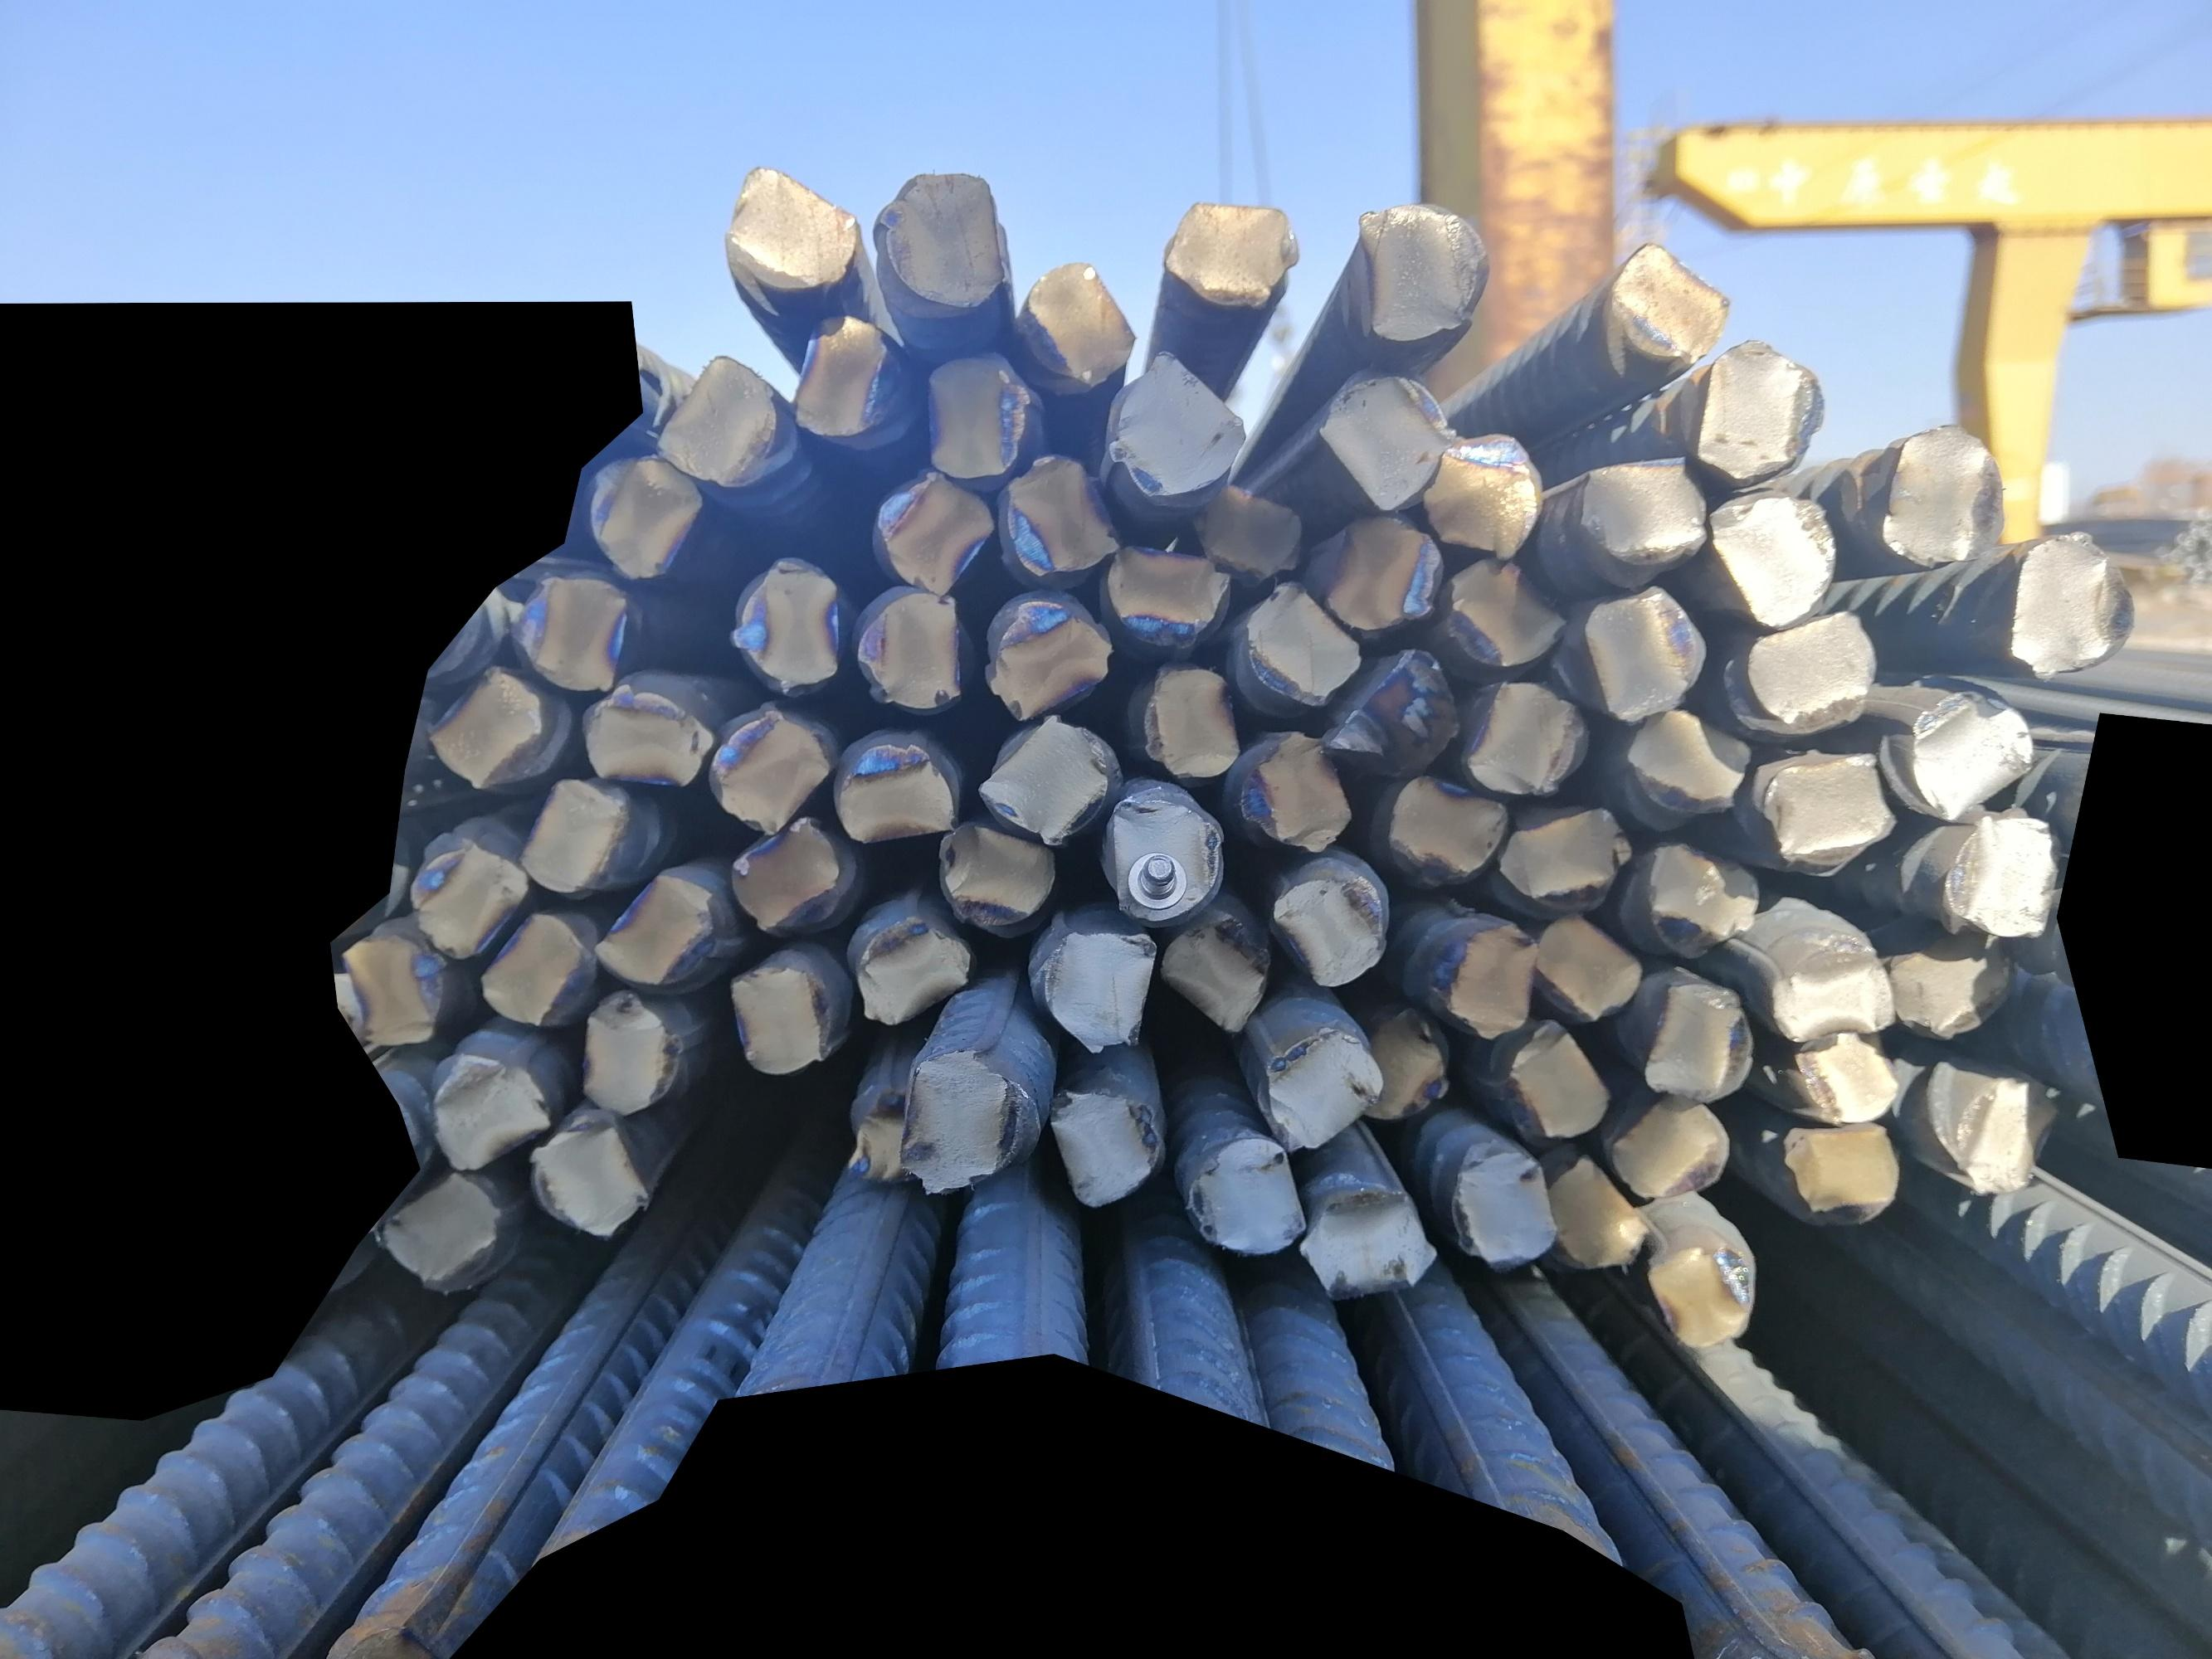bar: (1107, 349, 1246, 504), (1999, 525, 2135, 683), (1869, 418, 2006, 573), (1349, 197, 1496, 342), (1686, 336, 1827, 486), (868, 171, 1011, 312), (1757, 742, 1902, 882), (1895, 687, 2039, 826), (1320, 368, 1455, 509), (1595, 235, 1738, 369), (725, 157, 863, 295), (1095, 779, 1224, 925), (694, 697, 828, 836), (519, 1101, 652, 1243), (898, 1044, 1020, 1195), (1415, 422, 1544, 565), (1569, 450, 1712, 579), (981, 720, 1128, 845), (1733, 610, 1879, 735), (1574, 584, 1708, 720), (507, 565, 638, 701), (1710, 488, 1839, 626), (1931, 810, 2062, 945), (377, 1166, 514, 1293), (1039, 918, 1163, 1056), (659, 354, 788, 484), (1313, 507, 1447, 633), (1184, 1122, 1306, 1260), (1300, 1175, 1436, 1297), (1454, 678, 1590, 800), (1262, 1019, 1382, 1157), (1328, 648, 1459, 774), (725, 554, 844, 692), (1246, 570, 1363, 709), (990, 592, 1117, 720), (427, 1040, 547, 1175), (1639, 835, 1762, 964), (1490, 796, 1633, 908), (1001, 446, 1121, 579), (1621, 706, 1761, 819), (723, 812, 851, 936), (1635, 971, 1755, 1101), (579, 666, 708, 786), (1243, 723, 1354, 861), (1042, 1082, 1164, 1208), (1018, 258, 1137, 387), (917, 345, 1032, 477), (1163, 197, 1297, 310), (873, 471, 992, 598), (1536, 1150, 1652, 1279), (1945, 1072, 2062, 1201), (1529, 906, 1644, 1037), (479, 903, 591, 1037), (1884, 936, 2020, 1046), (1443, 549, 1571, 666), (587, 863, 711, 981), (589, 455, 706, 580), (1384, 767, 1510, 884), (1424, 917, 1541, 1042), (1773, 1124, 1907, 1232), (1271, 866, 1389, 988), (572, 993, 683, 1122), (1452, 1143, 1562, 1274), (429, 659, 546, 781), (1769, 939, 1898, 1047), (783, 310, 887, 443), (852, 911, 976, 1023), (413, 833, 526, 951), (1154, 910, 1265, 1030), (854, 587, 964, 709), (1607, 1091, 1731, 1199), (342, 925, 444, 1054), (1102, 540, 1229, 643), (1645, 1241, 1761, 1352), (934, 821, 1055, 927), (1504, 1018, 1609, 1138), (837, 739, 959, 842), (1140, 662, 1245, 781), (516, 772, 626, 884), (729, 957, 824, 1080), (1785, 1032, 1907, 1126), (1361, 1000, 1450, 1126), (1199, 476, 1302, 577), (845, 1084, 912, 1185)
